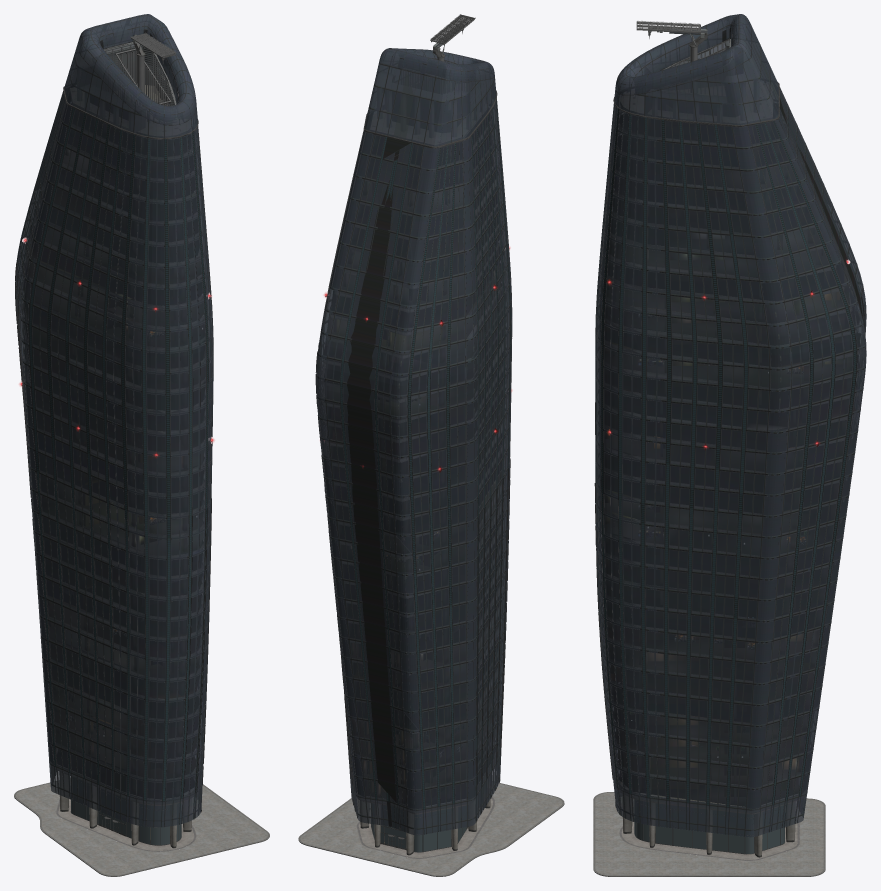
The model's file is london.glb.
The picture shows the model from 3 angles, left to right: view 1: azimuth 30°, elevation 25°; view 2: azimuth 150°, elevation 25°; view 3: azimuth 270°, elevation 25°; orthographic projection. The views are drawn at different scales.
Parts seen in each view (by area): view 1: Glass_Generic_Glass_Generic_0, Building_Facade_Building_Facade_0, Interior_Top_Interior_Top_0, Glass_Generic_More_Opaque_Glass_Generic_More_Opaque_0, Sidewalk_02_Sidewalk_02_0, Top_Piece_Top_Piece_0, Glass_Lobby_Glass_Lobby_0, Sidewalk_01_Sidewalk_01_0, Concrete_Pillar_Concrete_Pillar_0, Building_Maintenance_Unit_Building_Maintenance_Unit_0; view 2: Building_Facade_Building_Facade_0, Glass_Generic_Glass_Generic_0, Interior_Top_Interior_Top_0, Glass_Generic_More_Opaque_Glass_Generic_More_Opaque_0, Sidewalk_02_Sidewalk_02_0, Top_Piece_Top_Piece_0, Sidewalk_01_Sidewalk_01_0, Glass_Lobby_Glass_Lobby_0, Concrete_Pillar_Concrete_Pillar_0, Building_Maintenance_Unit_Building_Maintenance_Unit_0; view 3: Glass_Generic_Glass_Generic_0, Building_Facade_Building_Facade_0, Interior_Top_Interior_Top_0, Glass_Generic_More_Opaque_Glass_Generic_More_Opaque_0, Sidewalk_02_Sidewalk_02_0, Top_Piece_Top_Piece_0, Glass_Lobby_Glass_Lobby_0, Sidewalk_01_Sidewalk_01_0, Concrete_Pillar_Concrete_Pillar_0, Building_Maintenance_Unit_Building_Maintenance_Unit_0, Furniture_Furniture_0.
Boxes of the visible parts, <box> form: Glass_Generic_Glass_Generic_0: <box>15,92,213,827</box>; Building_Facade_Building_Facade_0: <box>15,14,213,845</box>; Interior_Top_Interior_Top_0: <box>23,110,208,798</box>; Glass_Generic_More_Opaque_Glass_Generic_More_Opaque_0: <box>64,14,197,137</box>; Sidewalk_02_Sidewalk_02_0: <box>16,779,267,875</box>; Top_Piece_Top_Piece_0: <box>70,41,196,135</box>; Glass_Lobby_Glass_Lobby_0: <box>71,777,181,844</box>; Sidewalk_01_Sidewalk_01_0: <box>14,777,269,876</box>; Concrete_Pillar_Concrete_Pillar_0: <box>59,772,191,848</box>; Building_Maintenance_Unit_Building_Maintenance_Unit_0: <box>130,32,176,93</box>; Building_Facade_Building_Facade_0: <box>315,48,512,852</box>; Glass_Generic_Glass_Generic_0: <box>316,99,512,835</box>; Interior_Top_Interior_Top_0: <box>323,109,506,805</box>; Glass_Generic_More_Opaque_Glass_Generic_More_Opaque_0: <box>364,48,496,146</box>; Sidewalk_02_Sidewalk_02_0: <box>300,783,562,875</box>; Top_Piece_Top_Piece_0: <box>371,68,494,144</box>; Sidewalk_01_Sidewalk_01_0: <box>298,783,564,876</box>; Glass_Lobby_Glass_Lobby_0: <box>371,793,479,852</box>; Concrete_Pillar_Concrete_Pillar_0: <box>360,780,490,855</box>; Building_Maintenance_Unit_Building_Maintenance_Unit_0: <box>430,14,475,61</box>; Glass_Generic_Glass_Generic_0: <box>595,87,866,837</box>; Building_Facade_Building_Facade_0: <box>594,14,866,854</box>; Interior_Top_Interior_Top_0: <box>600,104,860,806</box>; Glass_Generic_More_Opaque_Glass_Generic_More_Opaque_0: <box>614,14,778,125</box>; Sidewalk_02_Sidewalk_02_0: <box>595,792,823,875</box>; Top_Piece_Top_Piece_0: <box>620,38,772,122</box>; Glass_Lobby_Glass_Lobby_0: <box>634,800,784,853</box>; Sidewalk_01_Sidewalk_01_0: <box>593,792,825,876</box>; Concrete_Pillar_Concrete_Pillar_0: <box>622,795,795,857</box>; Building_Maintenance_Unit_Building_Maintenance_Unit_0: <box>636,21,707,92</box>; Furniture_Furniture_0: <box>613,314,806,757</box>.
Size of what is drawn, in the model's own units: 0.0931 by 0.4173 by 0.1273.
Materials: 19 (19 with a texture image).
